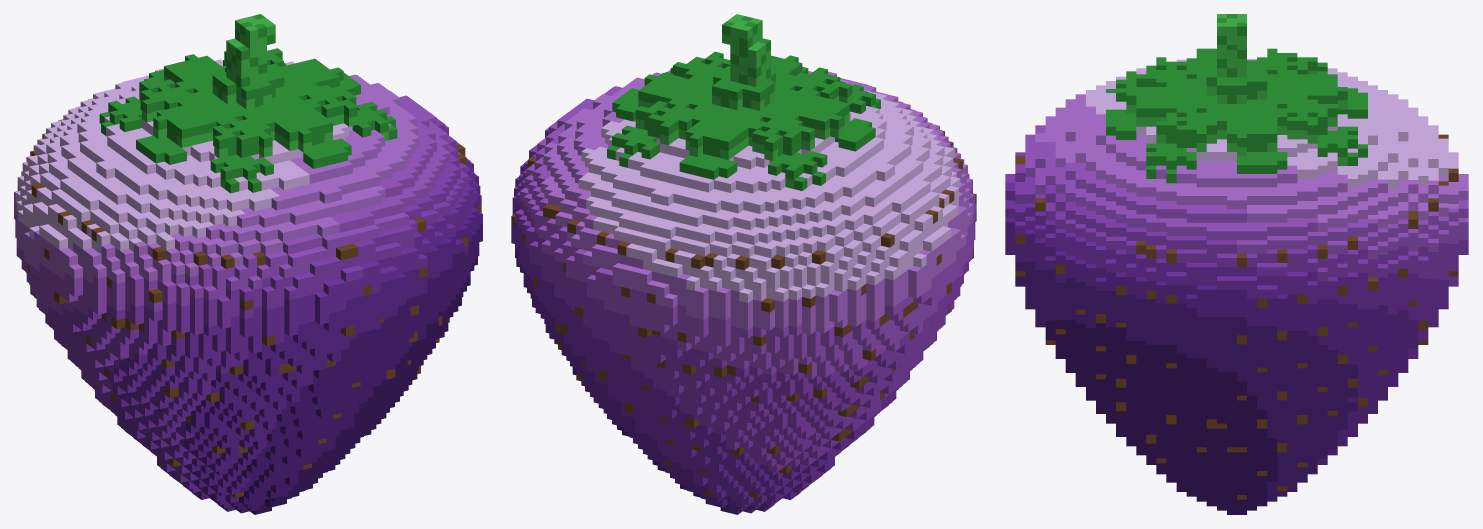
Rendered from strawberry.obj.
3 renders of one model, left to right at view 1: azimuth 30°, elevation 25°; view 2: azimuth 150°, elevation 25°; view 3: azimuth 270°, elevation 25°, orthographic.
Bounding box in the file's own units: 4.6 × 5.3 × 4.6.
